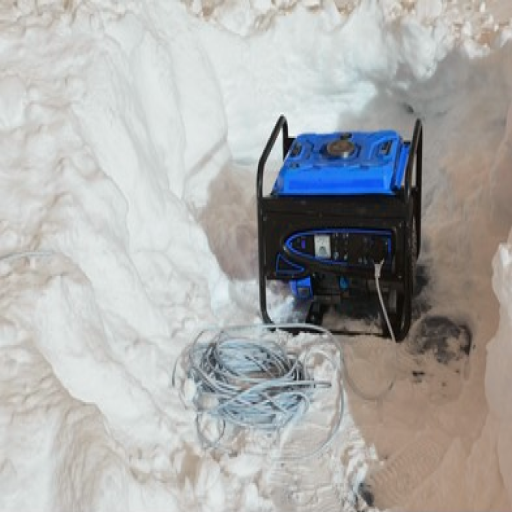portable_generator: (256, 115, 426, 342)
